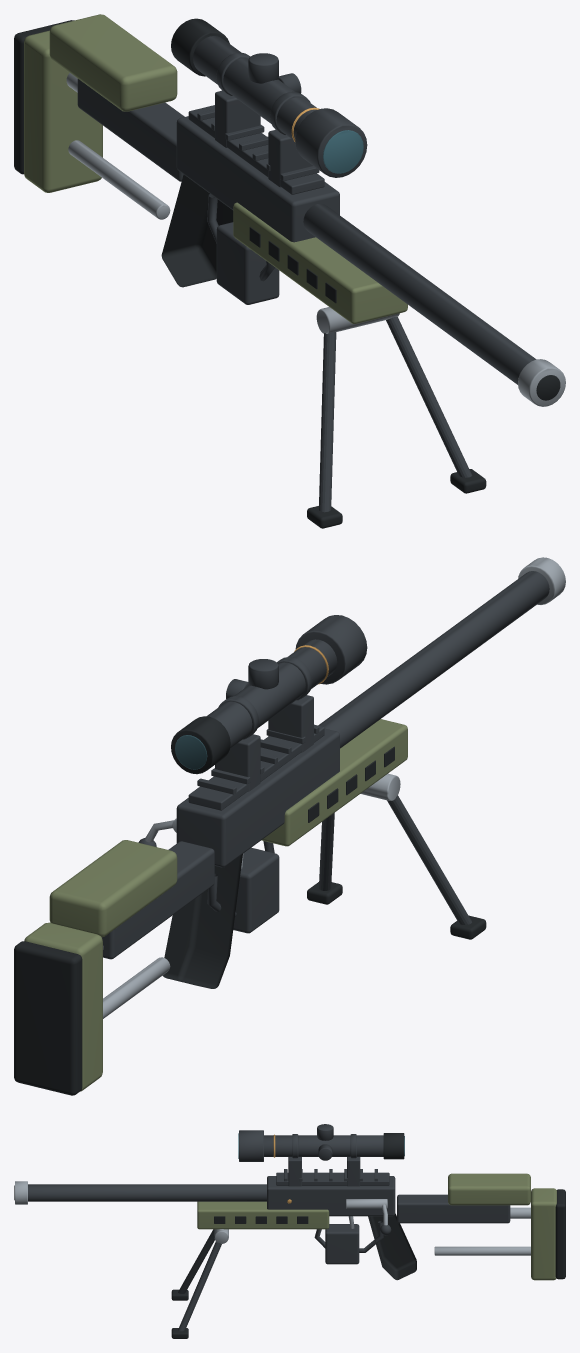
The model's file is ks-rifle-sniper.glb.
3 views of the same model, one above another, from view 1: azimuth 30°, elevation 25°; view 2: azimuth 150°, elevation 25°; view 3: azimuth 270°, elevation 25° (orthographic). The views are drawn at different scales.
Visible parts, largest first — view 1: static_batch_Graphite, static_batch_Olive_enamel, static_batch_Soft_matte_contact_pads, static_batch_Satin_stainless_details, scope_glass_front; view 2: static_batch_Graphite, static_batch_Soft_matte_contact_pads, static_batch_Olive_enamel, static_batch_Satin_stainless_details, scope_glass_rear; view 3: static_batch_Graphite, static_batch_Olive_enamel, static_batch_Soft_matte_contact_pads, static_batch_Satin_stainless_details, bolt.
Boxes of the visible parts, box(x1,y1,x2,y2) form: static_batch_Graphite: box(77, 36, 536, 512); static_batch_Olive_enamel: box(24, 14, 407, 323); static_batch_Soft_matte_contact_pads: box(14, 18, 560, 528); static_batch_Satin_stainless_details: box(66, 73, 565, 406); scope_glass_front: box(323, 130, 363, 173); static_batch_Graphite: box(102, 571, 549, 959); static_batch_Soft_matte_contact_pads: box(14, 716, 486, 1095); static_batch_Olive_enamel: box(24, 719, 407, 1091); static_batch_Satin_stainless_details: box(103, 557, 565, 1018); scope_glass_rear: box(175, 735, 207, 769); static_batch_Graphite: box(28, 1124, 510, 1331); static_batch_Olive_enamel: box(197, 1173, 556, 1280); static_batch_Soft_matte_contact_pads: box(14, 1133, 565, 1338); static_batch_Satin_stainless_details: box(15, 1181, 530, 1255); bolt: box(346, 1199, 387, 1208).
Size of the model in its own units: 0.278 by 0.556 by 1.46.
